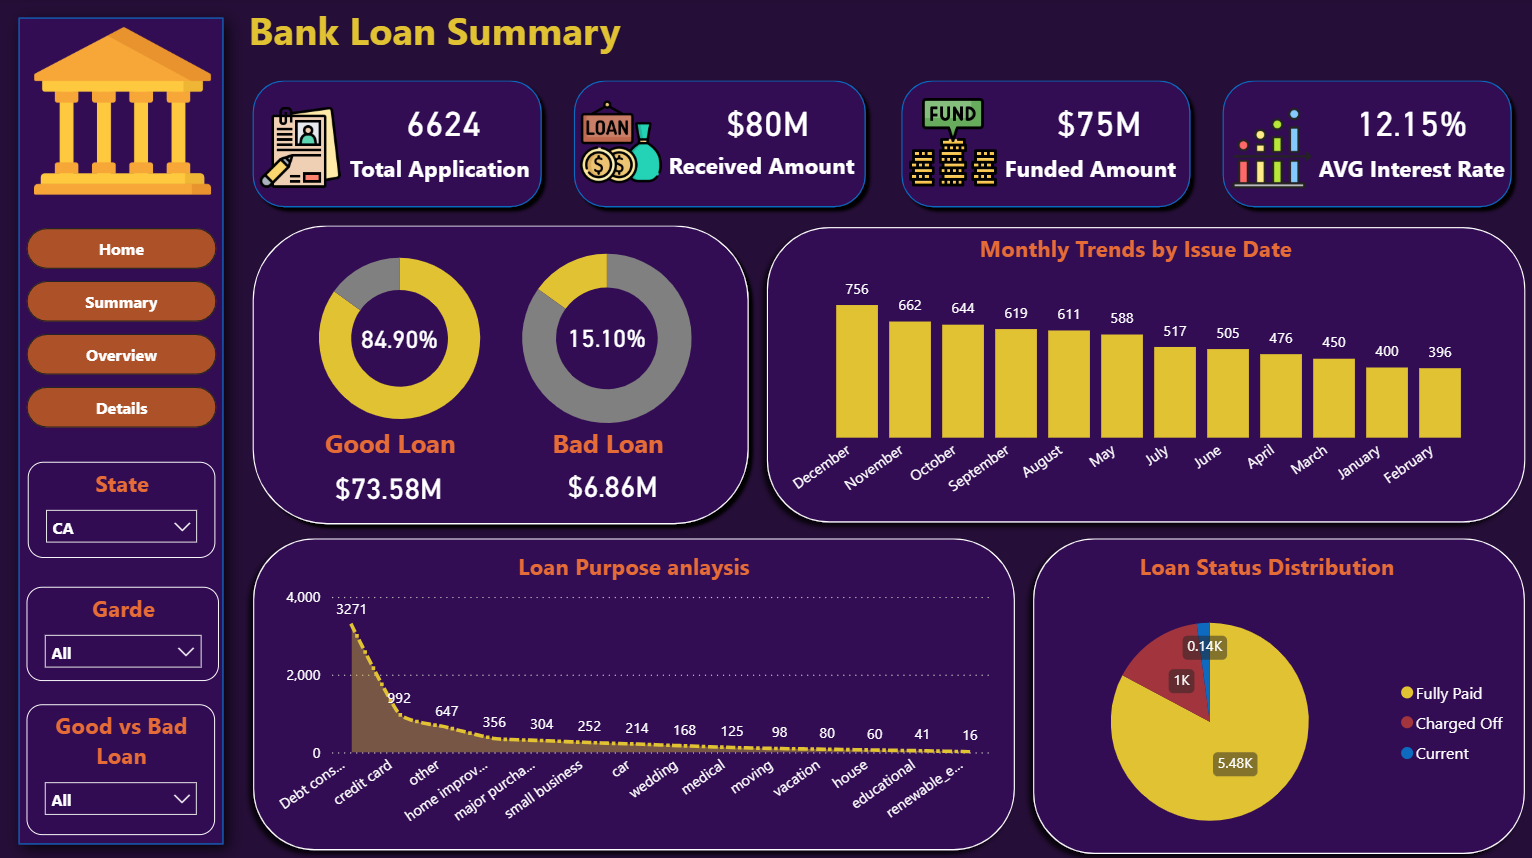

This screenshot's page, from the dashboard's own definition file:
{"tool":"powerbi","page":{"name":"Summary","canvas":[1280,720],"ordinal":1},"visuals":[{"type":"shape","box":[0,0,202.9,720],"z":0},{"type":"shape","box":[470.9,61.6,257,119.8],"z":1000},{"type":"shape","box":[203.5,61.6,254.7,119.8],"z":2000},{"type":"card","title":"Total Payment","fields":{"Values":["DAX Queries.Total Payment"]},"box":[533.7,72.1,210.5,61.6],"z":3000},{"type":"shape","box":[203.5,181.4,426.7,262.8],"z":4000},{"type":"shape","box":[851.2,440.6,426.1,279.6],"z":5000},{"type":"shape","box":[629.8,181.9,647.9,262.8],"z":6000},{"type":"textbox","box":[202.7,0,534.2,61.3],"z":7000},{"type":"shape","box":[1010.5,61.6,254.7,119.8],"z":8000},{"type":"shape","box":[743,61.6,254.7,119.8],"z":9000},{"type":"donutChart","fields":{"Category":["financial_loan.Good Loan vs Bad Loan"],"Y":["DAX Queries.Total Application"]},"box":[213.8,194.7,238.3,177.7],"z":10000},{"type":"donutChart","fields":{"Category":["financial_loan.Good Loan vs Bad Loan"],"Y":["DAX Queries.Total Application"]},"box":[397.7,190.7,215.1,186],"z":11000},{"type":"card","title":"Total Application","fields":{"Values":["DAX Queries.Total Application"]},"box":[264,75.6,211.6,54.7],"z":12000},{"type":"image","box":[470.9,84.9,93,68.6],"z":13000},{"type":"textbox","box":[266.5,350,175.6,61.6],"z":14000},{"type":"card","fields":{"Values":["DAX Queries.Good Loan"]},"box":[232.8,380.2,182.6,53.5],"z":15000},{"type":"image","box":[214,89.5,73.3,69.8],"z":16000},{"type":"card","fields":{"Values":["DAX Queries.Bad Loan"]},"box":[436.5,360.7,147.7,90.7],"z":17000},{"type":"textbox","box":[455.1,350.2,169.8,61.6],"z":18000},{"type":"card","fields":{"Values":["DAX Queries.Interst Rate"]},"box":[1097.7,65.1,154.7,74.4],"z":19000},{"type":"clusteredColumnChart","title":"Monthly Trends by Issue Date","fields":{"Category":["financial_loan.Issue_Month"],"Y":["DAX Queries.Total Application"]},"box":[651.2,195.3,587.2,238.4],"z":20000},{"type":"shape","box":[202.7,440.6,650.6,276.4],"z":21000},{"type":"areaChart","title":"Loan Purpose anlaysis","fields":{"Category":["financial_loan.purpose"],"Y":["CountNonNull(financial_loan.id)"]},"box":[227.6,459.4,600.7,239],"z":22000},{"type":"pieChart","title":"Loan Status Distribution","fields":{"Category":["financial_loan.loan_status"],"Y":["CountNonNull(financial_loan.id)"]},"box":[844.2,459.3,420.9,260.5],"z":23000},{"type":"card","fields":{"Values":["DAX Queries.Bad loan per"]},"box":[454.7,253.5,102.3,59.3],"z":24000},{"type":"card","fields":{"Values":["DAX Queries.Good loan_per"]},"box":[292,247.3,82.1,73.8],"z":25000},{"type":"image","box":[1024.4,84.9,67.4,79.1],"z":27000},{"type":"card","fields":{"Values":["DAX Queries.Total Funded"]},"box":[853.5,74.4,123.3,55.8],"z":28000},{"type":"image","box":[755.8,81.4,75.6,77.9],"z":29000},{"type":"image","box":[29.1,18.7,147.6,150.7],"z":30000},{"type":"textbox","box":[287.2,123.3,165.1,36],"z":31000},{"type":"textbox","box":[552.3,122.1,184.9,37.2],"z":32000},{"type":"textbox","box":[831.4,123.3,166.3,41.9],"z":33000},{"type":"textbox","box":[1091.9,123.3,184.9,37.2],"z":34000},{"type":"slicer","title":"State","fields":{"Values":["financial_loan.address_state"]},"box":[24.3,385.7,155.7,80],"z":35000},{"type":"slicer","title":"Garde","fields":{"Values":["financial_loan.grade"]},"box":[22.9,490,160,78.6],"z":36000},{"type":"slicer","title":"Good vs Bad Loan","fields":{"Values":["financial_loan.Good Loan vs Bad Loan"]},"box":[22.8,587.6,156.7,108.9],"z":37000},{"type":"pageNavigator","box":[22.9,191.4,158.6,168.6],"z":38000}]}

Visuals, with their boxes in screenshot pixels (x1, y1, x2, y2), scaled from the page's 1280x720 canvas onto the 1532x858 screenshot:
shape: 0/0/243/857
shape: 564/73/871/216
shape: 244/73/548/216
"Total Payment" card: 639/86/891/159
shape: 244/216/754/529
shape: 1019/525/1529/857
shape: 754/217/1529/530
textbox: 243/0/882/73
shape: 1209/73/1514/216
shape: 889/73/1194/216
donutChart - financial_loan.Good Loan vs Bad Loan x DAX Queries.Total Application: 256/232/541/444
donutChart - financial_loan.Good Loan vs Bad Loan x DAX Queries.Total Application: 476/227/733/449
"Total Application" card: 316/90/569/155
image: 564/101/675/183
textbox: 319/417/529/490
card - DAX Queries.Good Loan: 279/453/497/517
image: 256/107/344/190
card - DAX Queries.Bad Loan: 522/430/699/538
textbox: 545/417/748/491
card - DAX Queries.Interst Rate: 1314/78/1499/166
"Monthly Trends by Issue Date" clusteredColumnChart: 779/233/1482/517
shape: 243/525/1021/854
"Loan Purpose anlaysis" areaChart: 272/547/991/832
"Loan Status Distribution" pieChart: 1010/547/1514/857
card - DAX Queries.Bad loan per: 544/302/667/373
card - DAX Queries.Good loan_per: 349/295/448/383
image: 1226/101/1307/195
card - DAX Queries.Total Funded: 1022/89/1169/155
image: 905/97/995/190
image: 35/22/211/202
textbox: 344/147/541/190
textbox: 661/146/882/190
textbox: 995/147/1194/197
textbox: 1307/147/1528/191
"State" slicer: 29/460/215/555
"Garde" slicer: 27/584/219/678
"Good vs Bad Loan" slicer: 27/700/215/830
pageNavigator: 27/228/217/429
